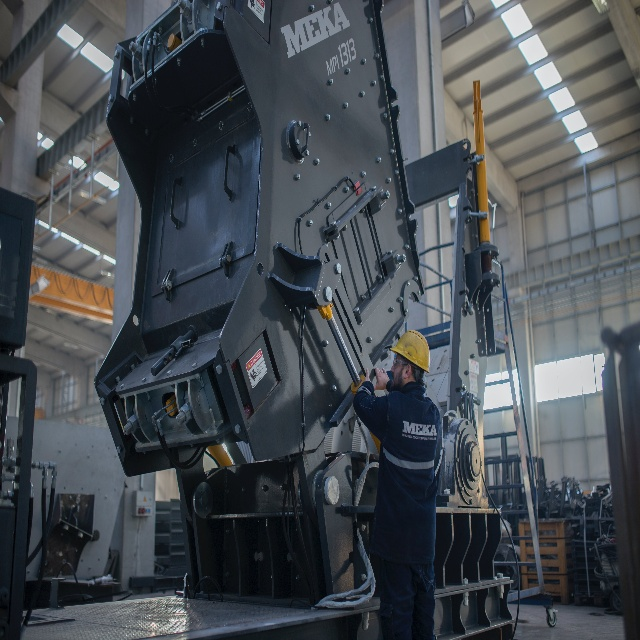Gafas: (393, 357, 417, 369)
Sin_guantes: (373, 367, 389, 391), (363, 368, 371, 383)
